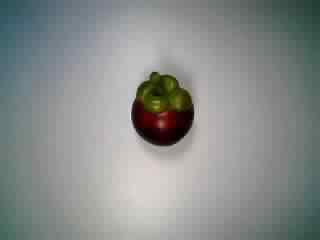mangosteen: (121, 71, 199, 146)
